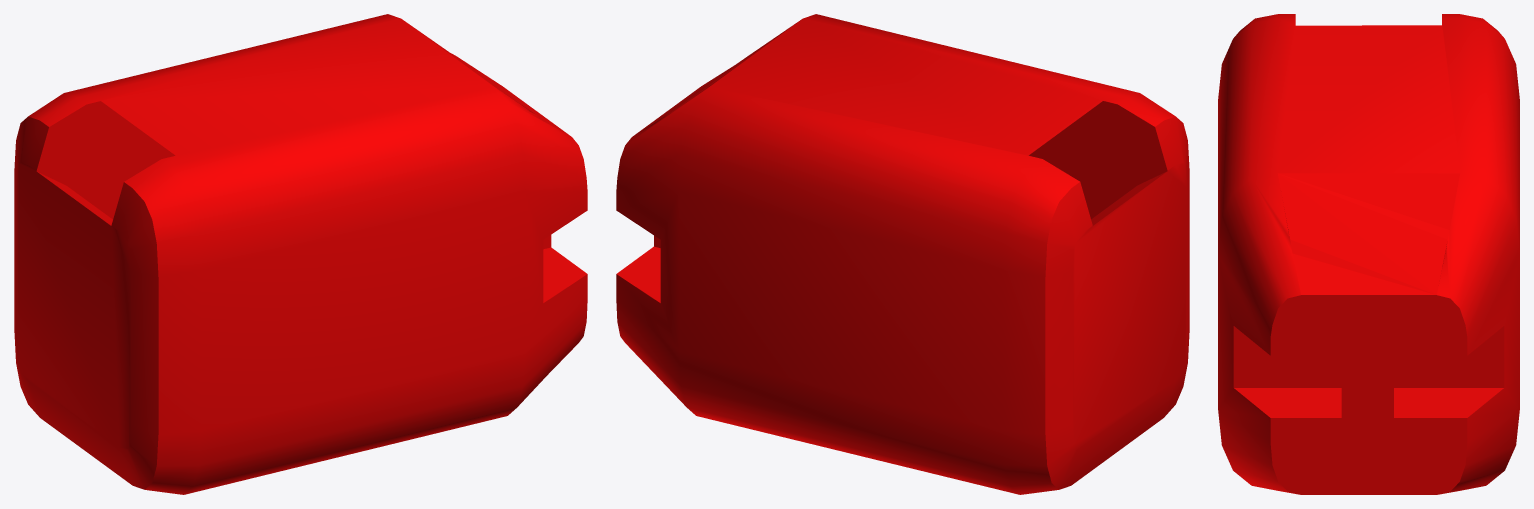
The model's file is BidonPequeño.fbx.
3 views of the same model, side by side, from view 1: azimuth 30°, elevation 25°; view 2: azimuth 150°, elevation 25°; view 3: azimuth 270°, elevation 25° (orthographic). The views are drawn at different scales.
Parts seen in each view (by area): view 1: Box001; view 2: Box001; view 3: Box001.
Part boxes in pixels (bbox=[...]): Box001: bbox=[14, 14, 587, 494]; Box001: bbox=[616, 14, 1189, 494]; Box001: bbox=[1218, 14, 1519, 494].
Bounding box in the file's own units: 10.35 × 6.92 × 5.96.
